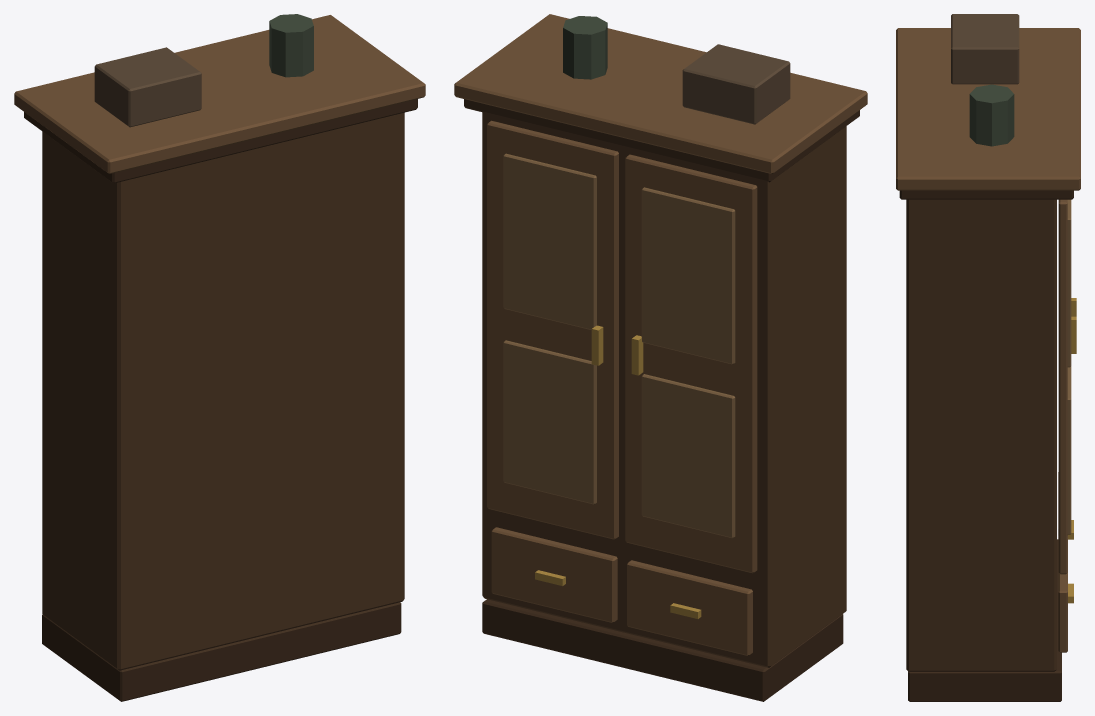
The model's file is prop_cabinet.glb.
3 renders of one model, left to right at view 1: azimuth 30°, elevation 25°; view 2: azimuth 150°, elevation 25°; view 3: azimuth 270°, elevation 25°, orthographic. The views are drawn at different scales.
Visible parts, largest first — view 1: prop_cabinet; view 2: prop_cabinet; view 3: prop_cabinet.
Part boxes in pixels (x1,y1,x2,y2): prop_cabinet: (14,14,425,701); prop_cabinet: (454,14,867,701); prop_cabinet: (896,14,1080,701).
Size of the model in its own units: 1.04 by 1.86 by 0.54.
